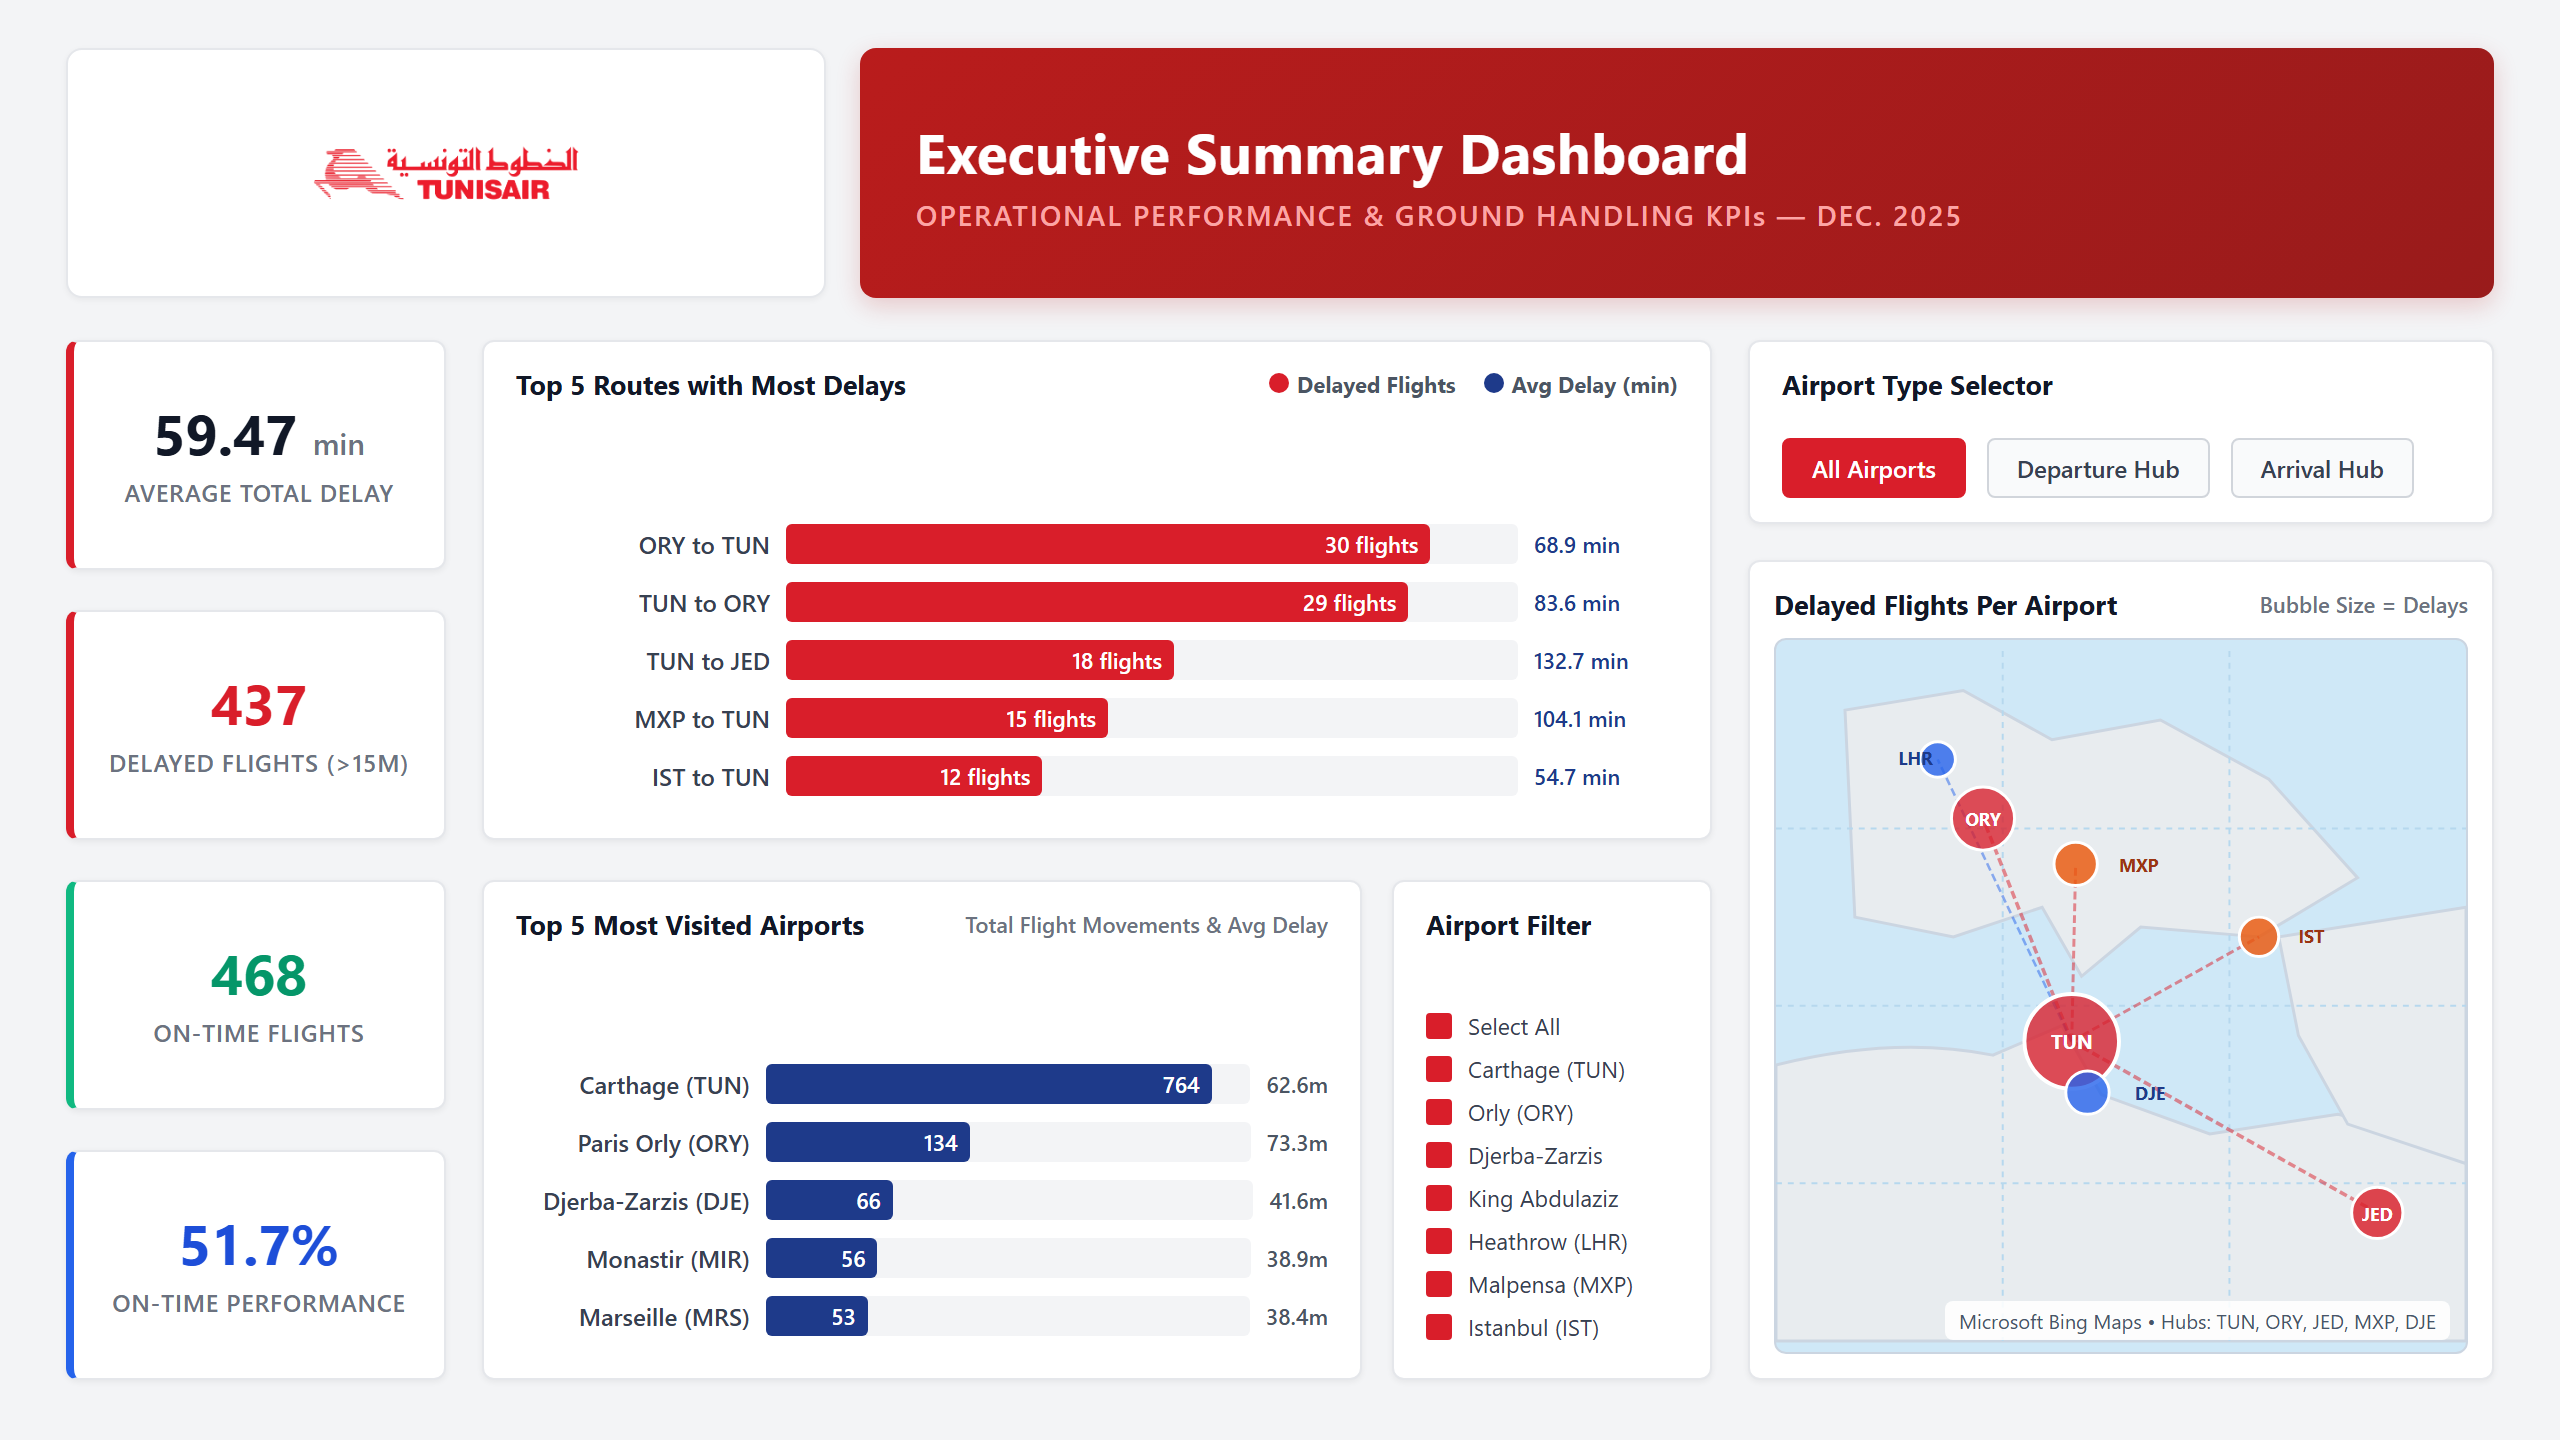

Layout of this report page (visuals, bound fields, positions):
{"tool":"powerbi","page":{"name":"Executive Summary Dashboard(2025)","canvas":[1280,720],"ordinal":0},"visuals":[{"type":"barChart","title":"Top 5 Routes with Most Delays","fields":{"Category":["vw_route_performance_2025.route_key"],"Y":["Sum(vw_route_performance_2025.delayed_flights)"]},"box":[241.4,199.7,610.2,226.1],"z":0},{"type":"card","title":"Delayed Flights","fields":{"Values":["Sum(vw_route_performance_2025.delayed_flights)"]},"box":[32.9,329.2,186.6,85.6],"z":1000},{"type":"image","box":[51.1,32.4,376.6,144.8],"z":2000},{"type":"textbox","box":[483.9,47.7,749.7,114.2],"z":3000},{"type":"map","title":"Delayed Flights Per Airport ","fields":{"Category":["vw_flights_2025.arrival_airport"],"Size":["vw_flights_2025.DelayedFlightsPerAirport"]},"box":[873.5,329.2,390.7,342.4],"z":4000},{"type":"slicer","title":"Airport Type","fields":{"Values":["Airport type Selector.Airport type Selector"]},"box":[873.5,199.7,390.7,87.8],"z":5000},{"type":"slicer","fields":{"Values":["Dim_Airport_Visits.Airport"]},"box":[691.4,467.5,160.2,206.3],"z":6000},{"type":"barChart","title":"Top 5 Most visited Airports","fields":{"Category":["Dim_Airport_Visits.Airport"],"Y":["vw_flights_2025.Total Airport Visits"]},"box":[239.2,467.5,443.4,204.1],"z":7000},{"type":"card","title":"On-Time Performance","fields":{"Values":["vw_otp_2025.On-Time Performance % (KPI)"]},"box":[29,587.9,185.7,85.2],"z":8000},{"type":"card","title":"Average Total Delay","fields":{"Values":["vw_flights_2025.AvgTotalDelay"]},"box":[32.9,199.7,184.4,85.6],"z":9000},{"type":"card","title":"On-Time Flights","fields":{"Values":["Sum(vw_otp_2025.on_time_flights)"]},"box":[32.9,458.7,186.6,83.4],"z":10000}]}

Visuals, with their boxes in screenshot pixels (x1, y1, x2, y2), scaled from the page's 1280x720 canvas onto the 2560x1440 screenshot:
"Top 5 Routes with Most Delays" barChart: (483,399,1703,852)
"Delayed Flights" card: (66,658,439,830)
image: (102,65,855,354)
textbox: (968,95,2467,324)
"Delayed Flights Per Airport " map: (1747,658,2528,1343)
"Airport Type" slicer: (1747,399,2528,575)
slicer - Dim_Airport_Visits.Airport: (1383,935,1703,1348)
"Top 5 Most visited Airports" barChart: (478,935,1365,1343)
"On-Time Performance" card: (58,1176,429,1346)
"Average Total Delay" card: (66,399,435,571)
"On-Time Flights" card: (66,917,439,1084)
